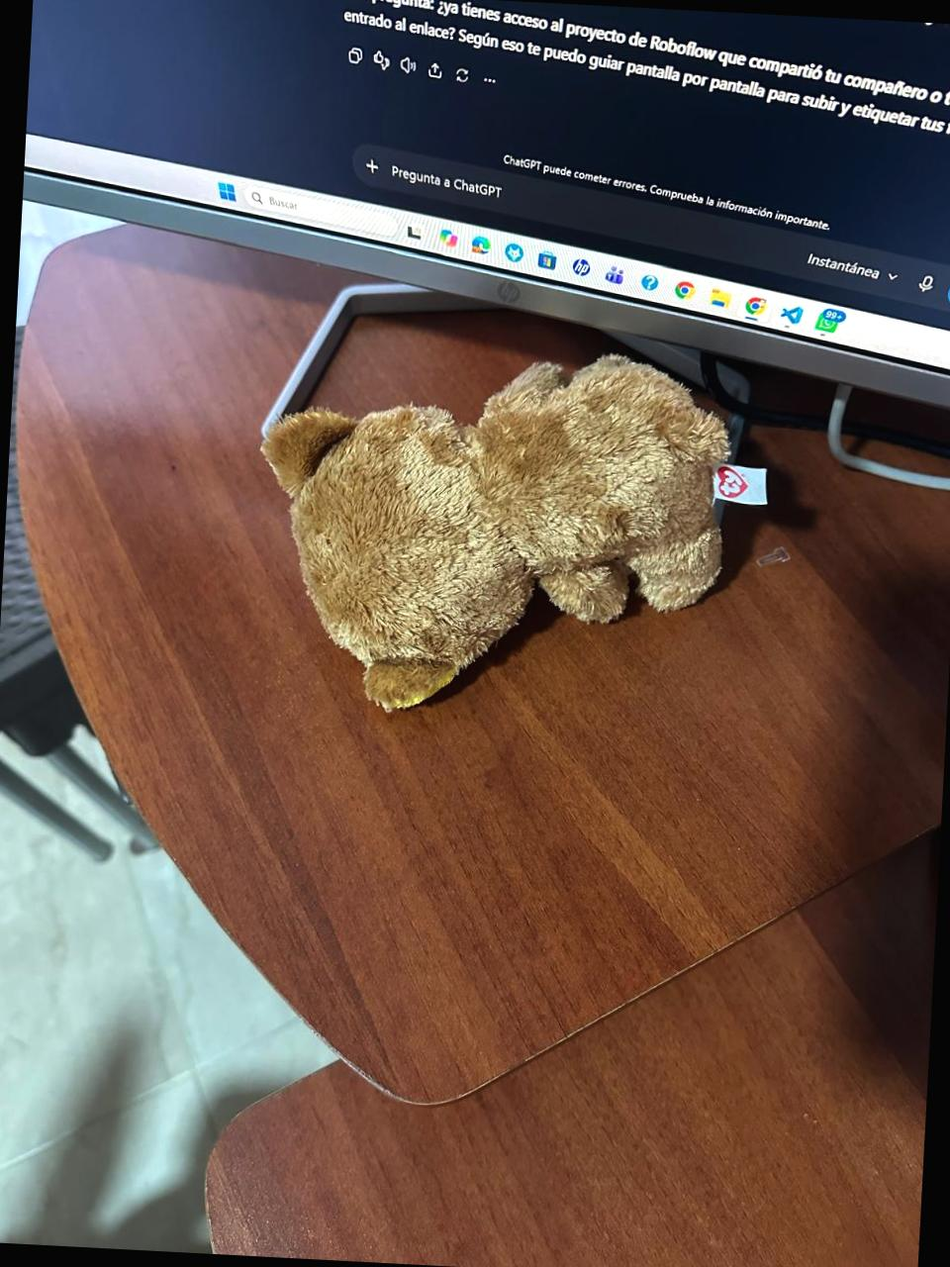peluche_sebastian: (253, 328, 775, 732)
